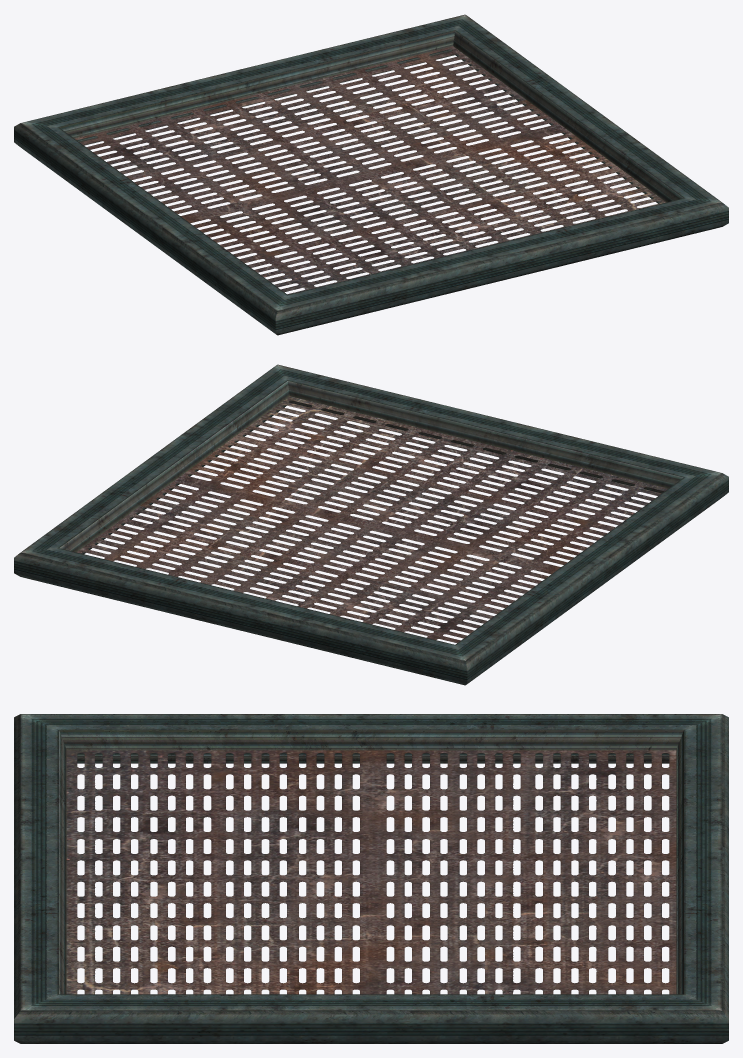
Rendered from Walkway01.DAE.
3 renders of one model, top to bottom at view 1: azimuth 30°, elevation 25°; view 2: azimuth 150°, elevation 25°; view 3: azimuth 270°, elevation 25°, orthographic. The views are drawn at different scales.
Parts seen in each view (by area): view 1: Plane002; view 2: Plane002; view 3: Plane002.
Boxes of the visible parts, box(x1,y1,x2,y2) form: Plane002: box(14, 14, 728, 335); Plane002: box(14, 364, 728, 685); Plane002: box(14, 714, 728, 1043).
Bounding box in the file's own units: 2 × 0.1026 × 2.
